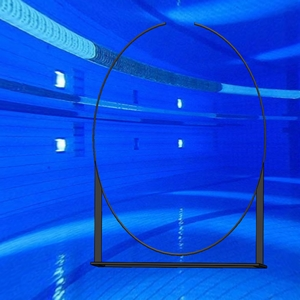circle: (89, 21, 270, 269)
